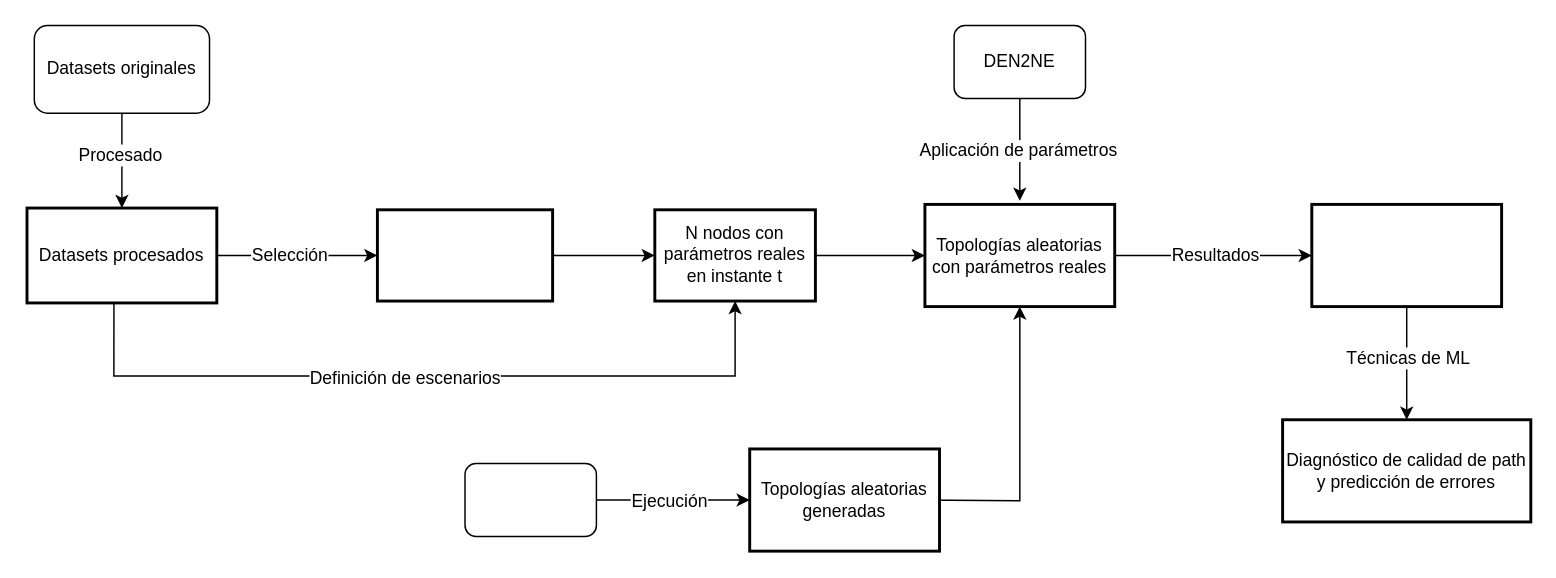
Some shapes in this 1556 by 578 pixel diagram are drawn without their labels. Each missing label, with the centre of its shape:
"BRITE" goes at (530,499).
"Dataset de entrenamiento" goes at (1406,254).
"N nodos con parámetros reales" goes at (464,255).
